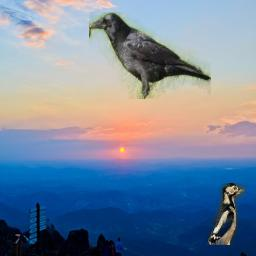Crow: (89, 12, 211, 99)
Woodpecker: (207, 183, 245, 245)
